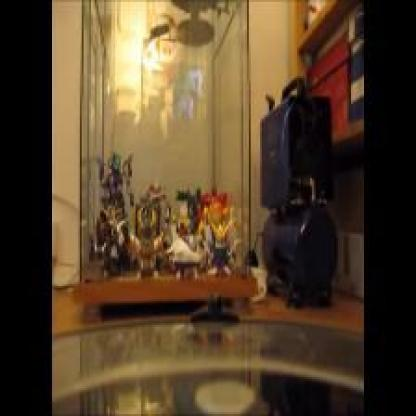other: (110, 29, 169, 109), (200, 190, 236, 241)
